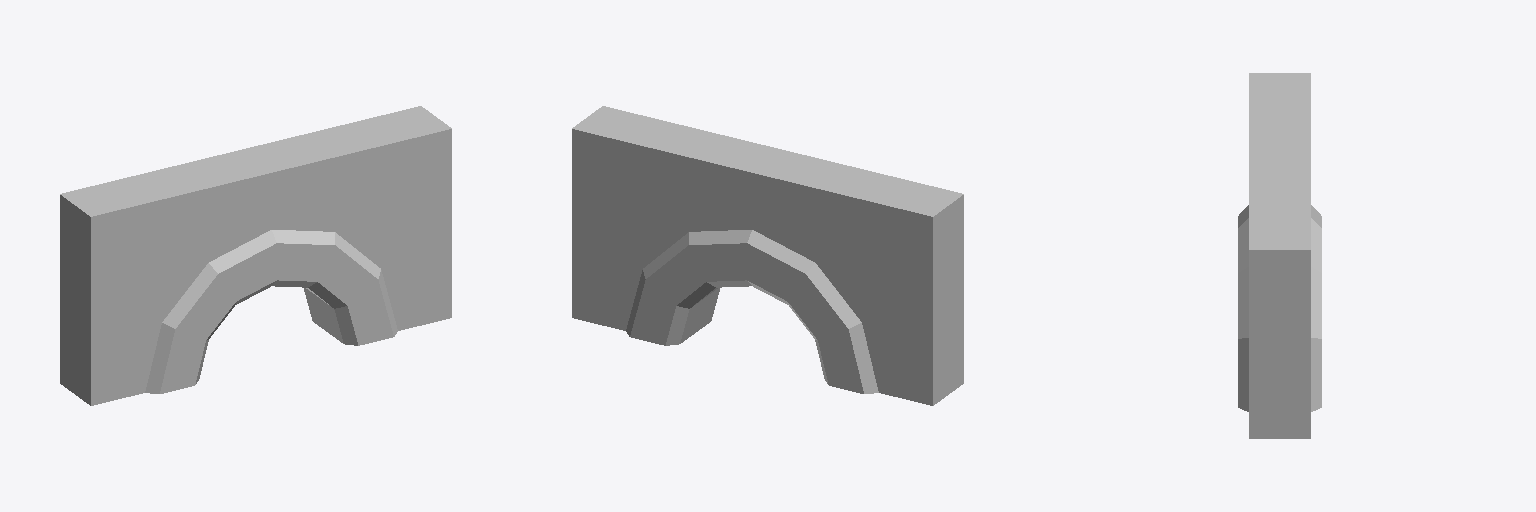
File: struct_wall_big_door_upper.obj
3 views of the same model, side by side, from view 1: azimuth 30°, elevation 25°; view 2: azimuth 150°, elevation 25°; view 3: azimuth 270°, elevation 25° (orthographic).
Visible parts, largest first — view 1: object1, object2; view 2: object1, object2; view 3: object1, object2.
Boxes of the visible parts, box(x1,y1,x2,y2) form: object1: box(60, 106, 451, 405); object2: box(145, 230, 397, 393); object1: box(572, 106, 963, 405); object2: box(626, 230, 878, 393); object1: box(1249, 73, 1310, 438); object2: box(1238, 205, 1321, 411).
Size of the model in its own units: 2 by 1 by 0.4.